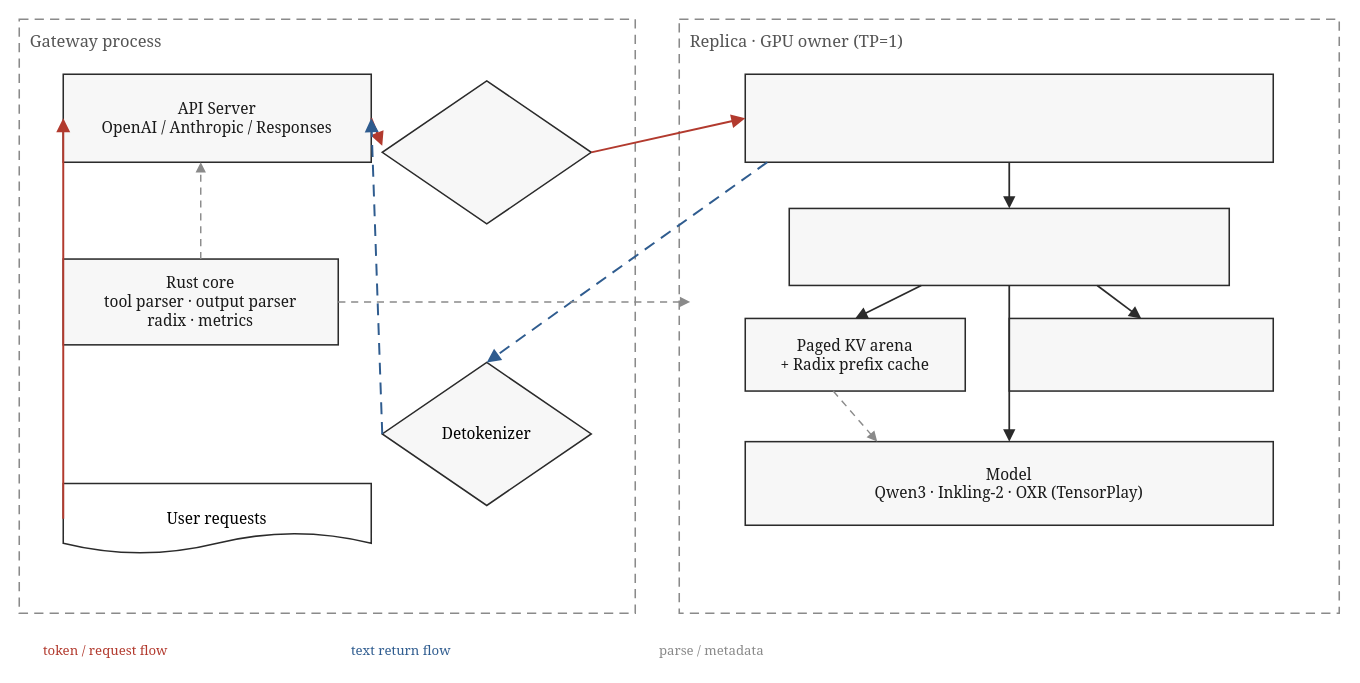
The diagram is 1360 pixels wide and 683 high, and some of its shapes have lost their labels. The shapes that lost their labels are listed below. From the top down, each one's centre as x and y in pixels, then its label:
At [1008,117]: "Scheduler single leader · continuous batching".
At [486,152]: "Tokenizer".
At [1008,246]: "Engine planner · sampling · CUDA graph".
At [1140,354]: "Triton kernels RMSNorm · paged attn · MoE".
